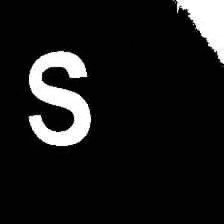LTR_S: (19, 45, 98, 149)
